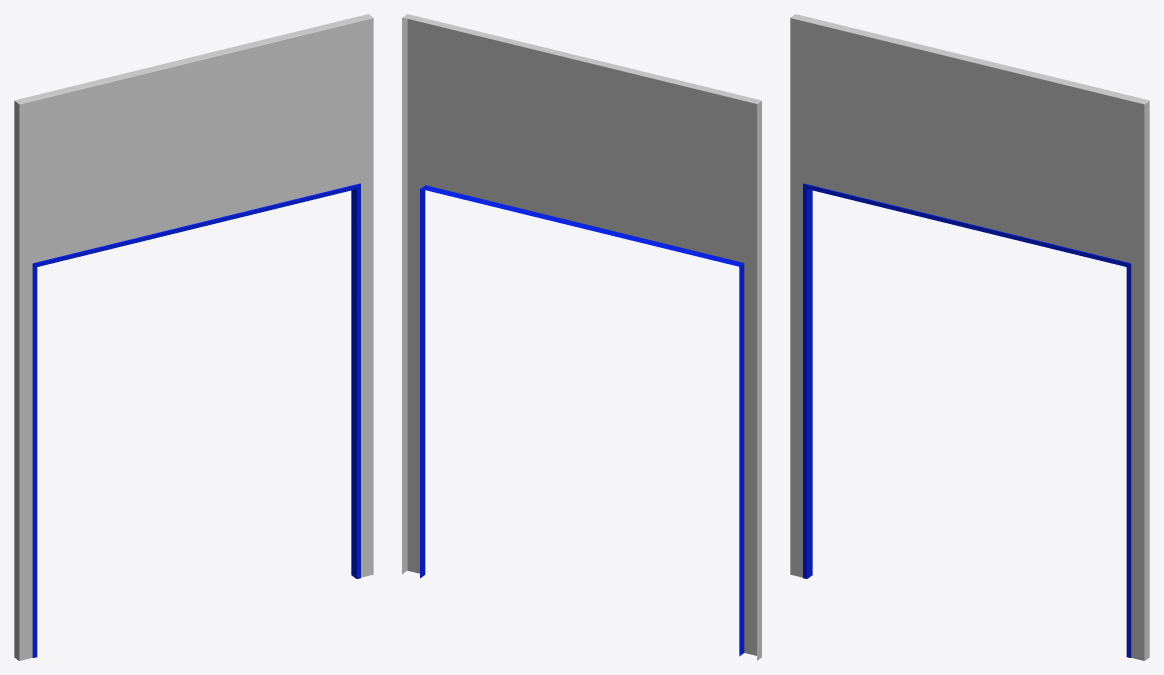
File: Wall03bDoor.fbx
The picture shows the model from 3 angles, left to right: view 1: azimuth 30°, elevation 25°; view 2: azimuth 150°, elevation 25°; view 3: azimuth 330°, elevation 25°; orthographic projection.
Parts seen in each view (by area): view 1: Wall03bDoor; view 2: Wall03bDoor; view 3: Wall03bDoor.
Part boxes in pixels (left/top/right/bottom): Wall03bDoor: left=14, top=14, right=373, bottom=660; Wall03bDoor: left=402, top=14, right=761, bottom=660; Wall03bDoor: left=790, top=14, right=1149, bottom=660.
Size of the model in its own units: 200 by 300 by 5.5.
